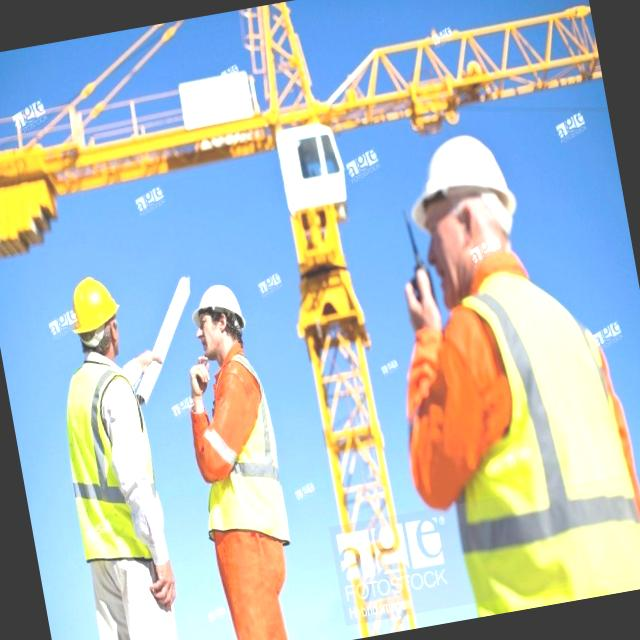helmet: (399, 128, 514, 216), (64, 270, 125, 342), (191, 281, 242, 324)
vest: (424, 259, 640, 616), (51, 350, 168, 575), (180, 352, 291, 552)
